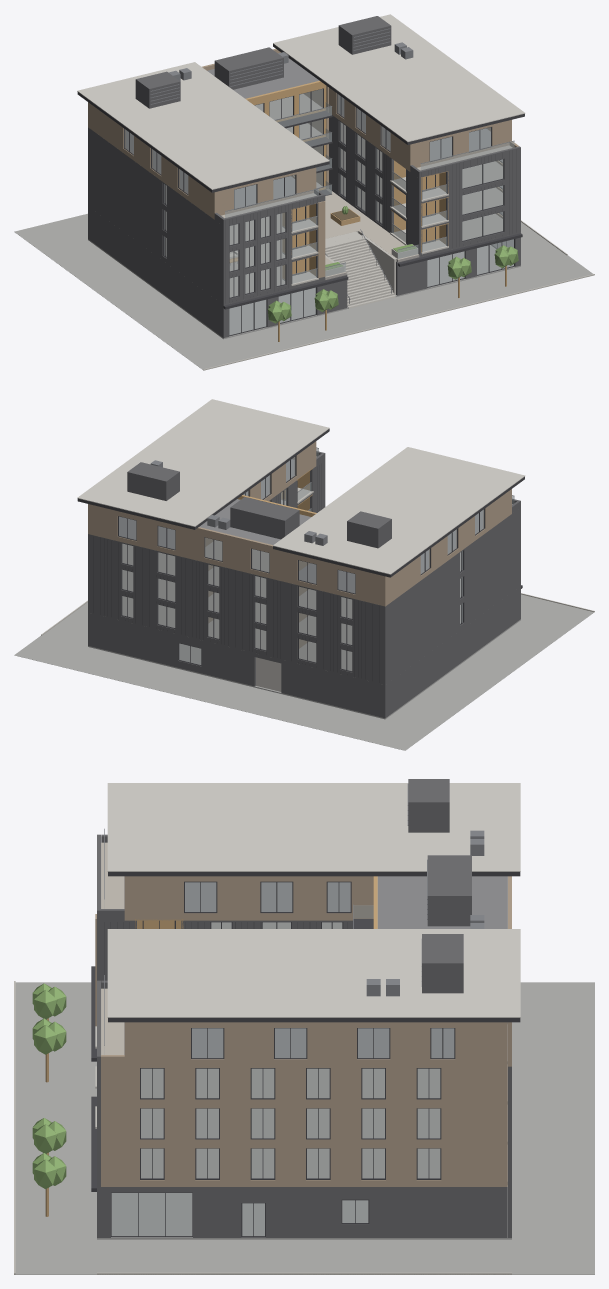
The model's file is clay-courtyard-mixed-use-midrise-clay-v005.glb.
3 views of the same model, one above another, from view 1: azimuth 30°, elevation 25°; view 2: azimuth 150°, elevation 25°; view 3: azimuth 270°, elevation 25° (orthographic). The views are drawn at different scales.
Parts seen in each view (by area): view 1: CLAY_WALL, CLAY_PALE, CLAY_FOUNDATION, CLAY_GLASS, CLAY_TAN, CLAY_TRIM, CLAY_FLOOR, CLAY_CONCRETE, CLAY_CEDAR, CLAY_MEMBRANE, CLAY_SAND, CLAY_HARDWARE (+3 smaller); view 2: CLAY_WALL, CLAY_PALE, CLAY_FOUNDATION, CLAY_TAN, CLAY_GLASS, CLAY_FLOOR, CLAY_TRIM, CLAY_JOINT, CLAY_MEMBRANE, CLAY_HARDWARE, CLAY_CEDAR; view 3: CLAY_PALE, CLAY_FOUNDATION, CLAY_TAN, CLAY_WALL, CLAY_GLASS, CLAY_FLOOR, CLAY_TRIM, CLAY_MEMBRANE, CLAY_PLANTING, CLAY_SAND, CLAY_STONE, CLAY_HARDWARE (+1 smaller).
Boxes of the visible parts, x1=… form: CLAY_WALL: x1=88, y1=16, x2=520, y2=337; CLAY_PALE: x1=77, y1=14, x2=525, y2=189; CLAY_FOUNDATION: x1=14, y1=213, x2=593, y2=370; CLAY_GLASS: x1=124, y1=89, x2=514, y2=334; CLAY_TAN: x1=88, y1=48, x2=518, y2=278; CLAY_TRIM: x1=77, y1=44, x2=524, y2=336; CLAY_FLOOR: x1=165, y1=94, x2=502, y2=297; CLAY_CONCRETE: x1=282, y1=177, x2=448, y2=308; CLAY_CEDAR: x1=245, y1=80, x2=448, y2=279; CLAY_MEMBRANE: x1=125, y1=58, x2=490, y2=208; CLAY_SAND: x1=221, y1=145, x2=512, y2=277; CLAY_HARDWARE: x1=150, y1=28, x2=514, y2=303; CLAY_WALL: x1=88, y1=451, x2=520, y2=718; CLAY_PALE: x1=77, y1=399, x2=525, y2=691; CLAY_FOUNDATION: x1=14, y1=594, x2=593, y2=750; CLAY_TAN: x1=88, y1=441, x2=511, y2=648; CLAY_GLASS: x1=119, y1=448, x2=514, y2=670; CLAY_FLOOR: x1=122, y1=493, x2=461, y2=670; CLAY_TRIM: x1=77, y1=429, x2=524, y2=672; CLAY_JOINT: x1=93, y1=463, x2=379, y2=682; CLAY_MEMBRANE: x1=119, y1=459, x2=483, y2=592; CLAY_HARDWARE: x1=150, y1=447, x2=514, y2=545; CLAY_CEDAR: x1=237, y1=468, x2=316, y2=516; CLAY_PALE: x1=107, y1=783, x2=520, y2=1017; CLAY_FOUNDATION: x1=14, y1=982, x2=594, y2=1274; CLAY_TAN: x1=95, y1=876, x2=511, y2=1186; CLAY_WALL: x1=97, y1=779, x2=511, y2=1237; CLAY_GLASS: x1=104, y1=882, x2=454, y2=1235; CLAY_FLOOR: x1=101, y1=843, x2=507, y2=1184; CLAY_TRIM: x1=91, y1=872, x2=520, y2=1237; CLAY_MEMBRANE: x1=124, y1=876, x2=507, y2=1057; CLAY_PLANTING: x1=32, y1=983, x2=66, y2=1189; CLAY_SAND: x1=101, y1=842, x2=124, y2=1054; CLAY_STONE: x1=14, y1=981, x2=511, y2=1274; CLAY_HARDWARE: x1=104, y1=784, x2=484, y2=1045.
Size of the model in its own units: 50 by 20.66 by 42.
